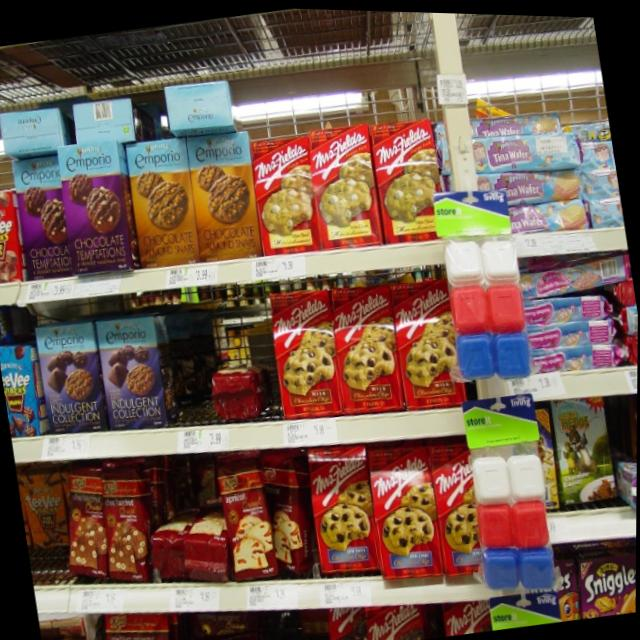q157: (384, 268, 469, 420), (266, 284, 347, 421), (327, 280, 407, 412), (370, 457, 446, 592), (311, 450, 382, 578), (431, 452, 496, 587)
